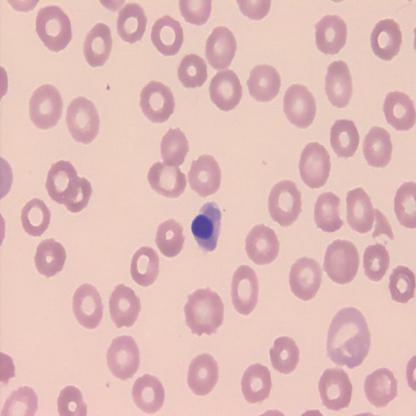NRC: (190, 199, 222, 253)
